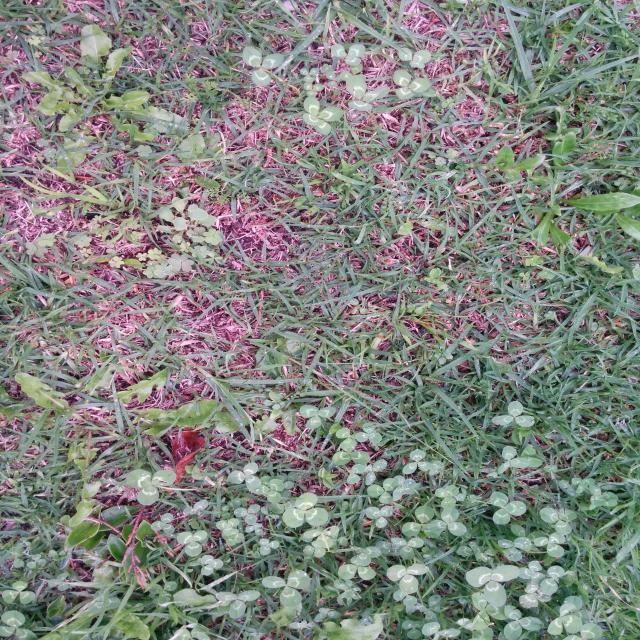Four Leaf Clover: (302, 97, 344, 135)
